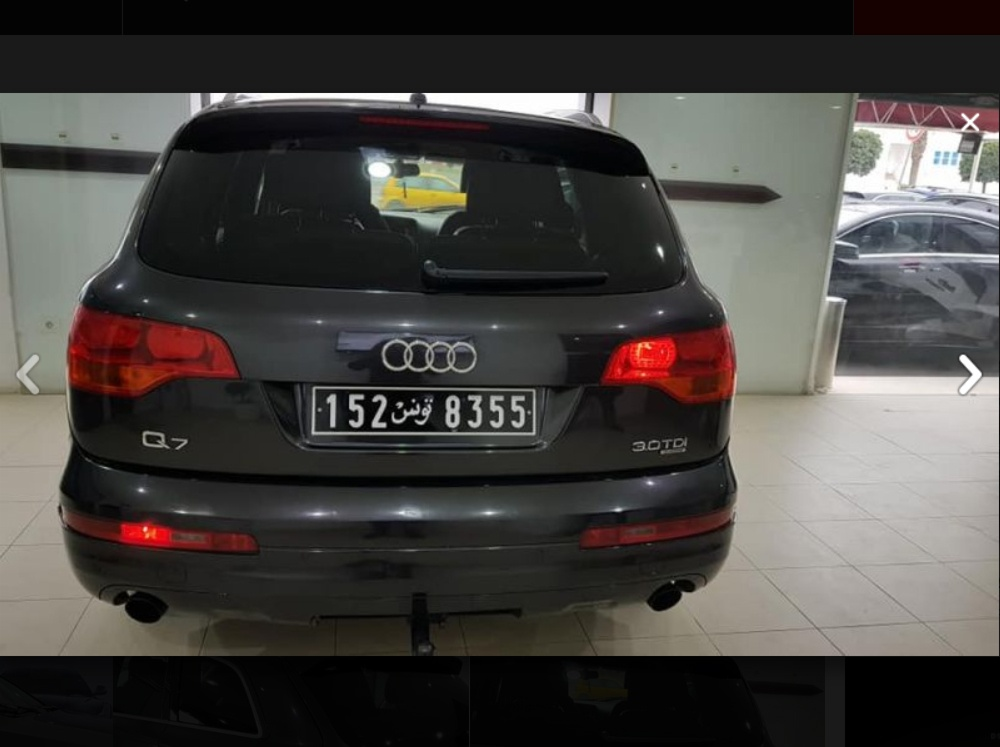LP: (308, 382, 548, 441)
